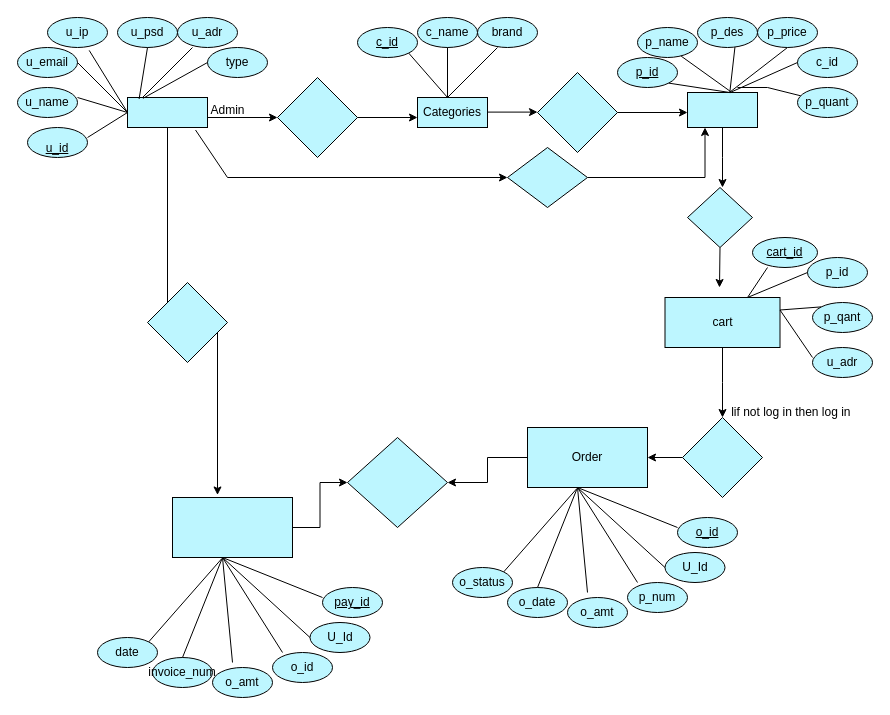
Image size: 890x715. Some labels were removed from this diagram. Here are the shapes that lost their labels. From the top down, the centre of each, then its label:
At (x=167, y=112): "User".
At (x=317, y=117): "Manages".
At (x=577, y=112): "has".
At (x=722, y=110): "Product".
At (x=547, y=177): "view".
At (x=719, y=217): "in".
At (x=187, y=322): "make".
At (x=722, y=457): "checkout".
At (x=397, y=482): "confirm".
At (x=232, y=527): "payment".
